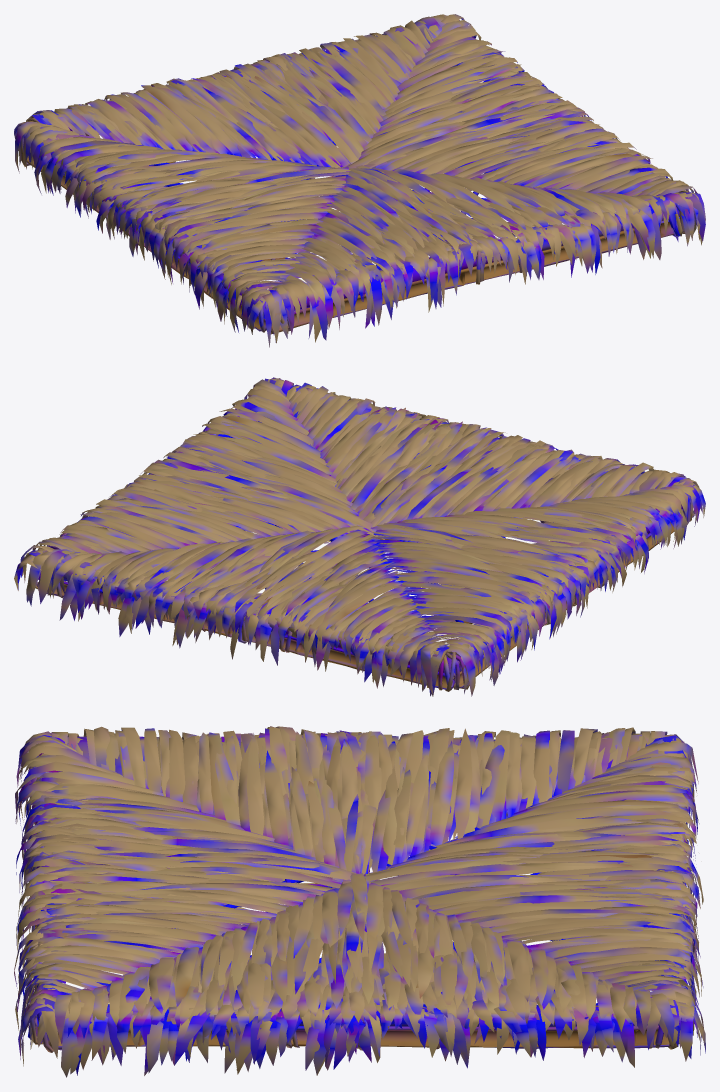
Rendered from Thatch_Ceiling_C.glb.
3 renders of one model, top to bottom at view 1: azimuth 30°, elevation 25°; view 2: azimuth 150°, elevation 25°; view 3: azimuth 270°, elevation 25°, orthographic. The views are drawn at different scales.
Parts seen in each view (by area): view 1: SM_Thatch_CeilingSquare; view 2: SM_Thatch_CeilingSquare; view 3: SM_Thatch_CeilingSquare.
Boxes of the visible parts, x1=… form: SM_Thatch_CeilingSquare: x1=14, y1=14, x2=705, y2=347; SM_Thatch_CeilingSquare: x1=14, y1=377, x2=705, y2=696; SM_Thatch_CeilingSquare: x1=14, y1=726, x2=705, y2=1077.
Size of the model in its own units: 3.23 by 0.4376 by 3.24.
1 material, 1 textured.
